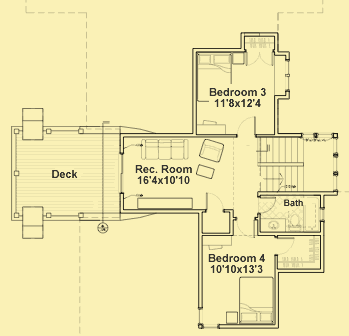bathroom has a bathtub with small and large sink: (257, 190, 326, 237)
bedroom has a double bed with bedside stands: (197, 236, 278, 330)
this bedroom has a double bed with bedside stands: (192, 46, 278, 137)
this is a livingroom with large sofa and small sofa and table: (119, 133, 235, 216)
